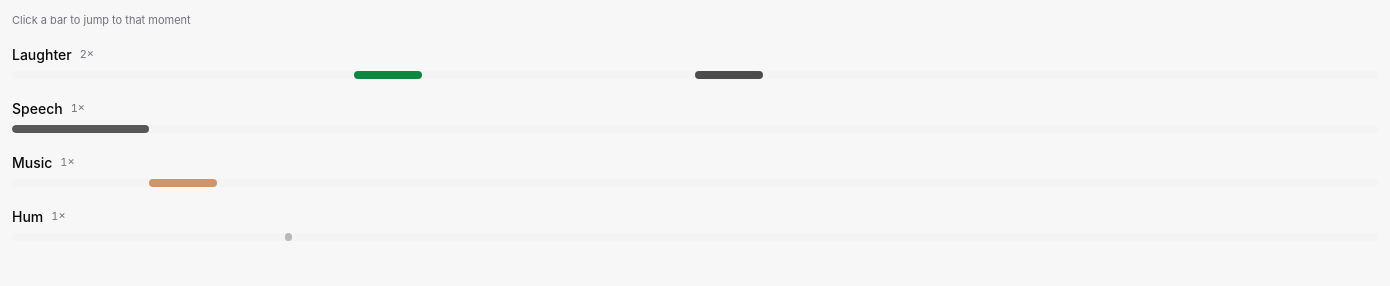
Test: AudioDetectionsPanel › expanded buckets › collapses an expanded bucket on a second toggle
Click the button "Laughter 2×": click(42, 54) 12,44 -> 1378,64
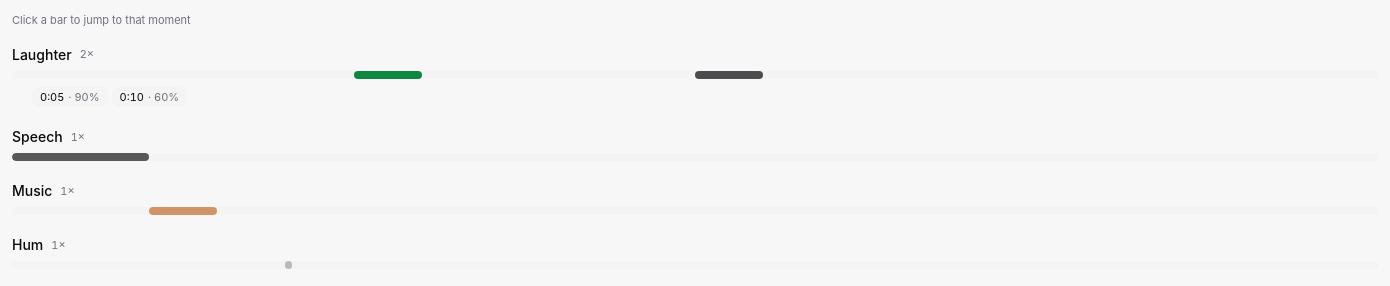
Result: the button "0:10 · 60%" is shown at 112,86 -> 187,107
Click the button "Laughter 2×": click(42, 54) 12,44 -> 1378,64
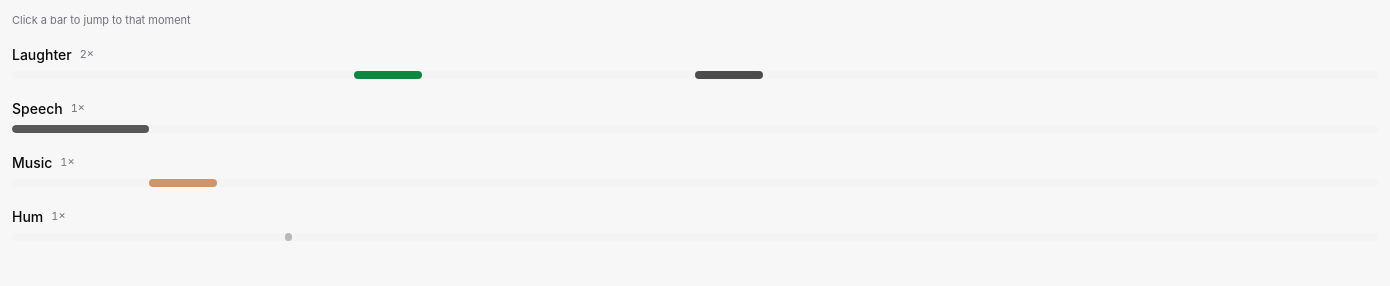
Result: the text "0:10" is gone
